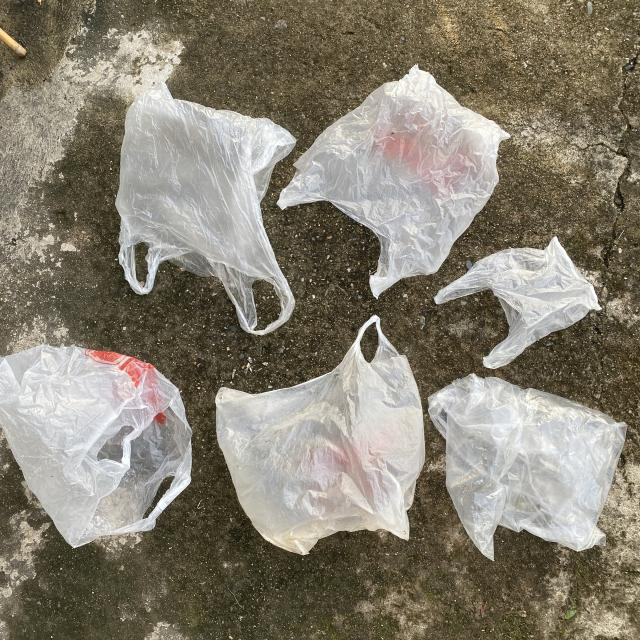Single-layer Plastic: (278, 65, 509, 298), (216, 316, 425, 555), (116, 84, 296, 335), (0, 345, 191, 548), (429, 374, 626, 559), (435, 238, 601, 369)
